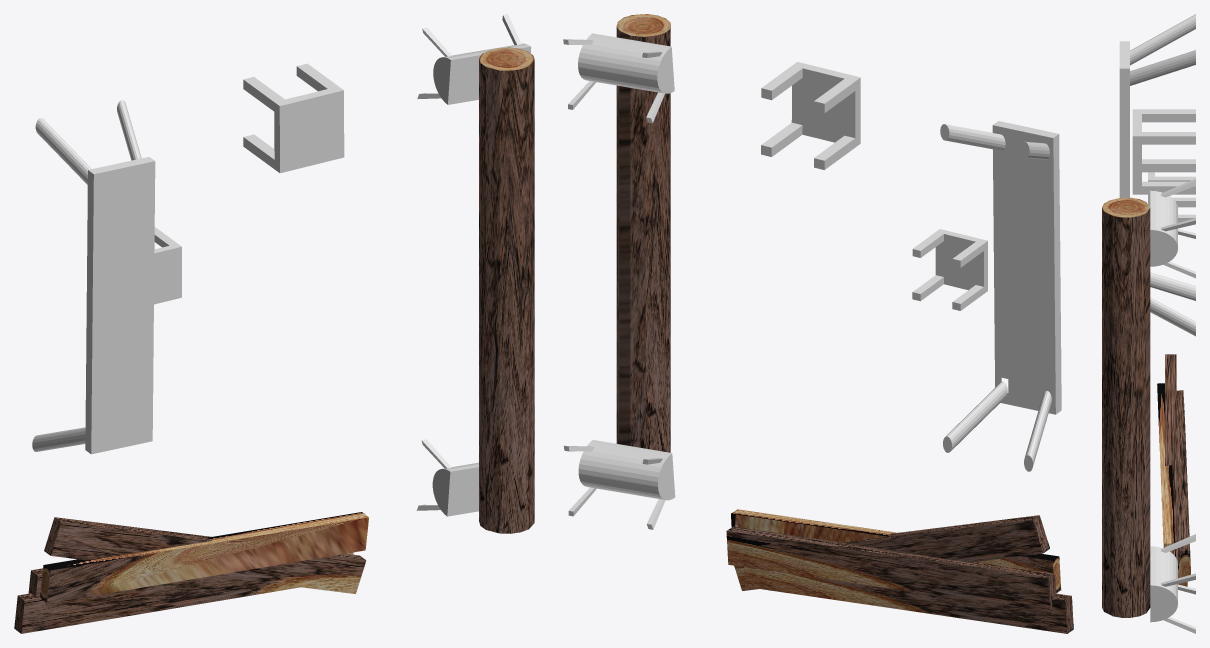
The model's file is building-carpenter.glb.
3 views of the same model, side by side, from view 1: azimuth 30°, elevation 25°; view 2: azimuth 150°, elevation 25°; view 3: azimuth 270°, elevation 25° (orthographic). The views are drawn at different scales.
Visible parts, largest first — view 1: Log-1, Table, Plank-1.001, Plank-1.003, Chair-1.001, Plank-1.002, RoundTable-2, RoundTable-1, Chair-1; view 2: Table, Log-1, Plank-1, Plank-1.002, Chair-1.001, Plank-1.003, RoundTable-1, RoundTable-2, Chair-1, Plank-1.001; view 3: Log-1, Table, Chair-1.001, RoundTable-1, RoundTable-2, Plank-1, Plank-1.003, Plank-1.001, Chair-1.
Boxes of the visible parts, x1,y1,x2,y2 form: Log-1: [479, 47, 534, 533]; Table: [32, 100, 155, 454]; Plank-1.001: [40, 512, 368, 603]; Plank-1.003: [44, 517, 366, 593]; Chair-1.001: [243, 63, 344, 173]; Plank-1.002: [14, 576, 299, 633]; RoundTable-2: [417, 14, 531, 104]; RoundTable-1: [416, 439, 478, 516]; Chair-1: [154, 227, 181, 304]; Table: [940, 121, 1061, 471]; Log-1: [616, 14, 670, 452]; Plank-1: [726, 526, 1055, 611]; Plank-1.002: [744, 567, 1073, 633]; Chair-1.001: [761, 62, 860, 169]; Plank-1.003: [734, 515, 1049, 590]; RoundTable-1: [564, 440, 675, 529]; RoundTable-2: [563, 33, 674, 123]; Chair-1: [912, 229, 987, 310]; Plank-1.001: [731, 509, 1061, 593]; Log-1: [1102, 197, 1150, 617]; Table: [1119, 14, 1195, 336]; Chair-1.001: [1132, 109, 1195, 194]; RoundTable-1: [1150, 534, 1195, 633]; RoundTable-2: [1150, 178, 1195, 278]; Plank-1: [1176, 390, 1190, 577]; Plank-1.003: [1165, 354, 1176, 550]; Plank-1.001: [1157, 383, 1175, 556]; Chair-1: [1148, 172, 1195, 222].
Bounding box in the file's own units: 10.4 × 10.6 × 1.95.
Materials: 3 (2 with a texture image).
